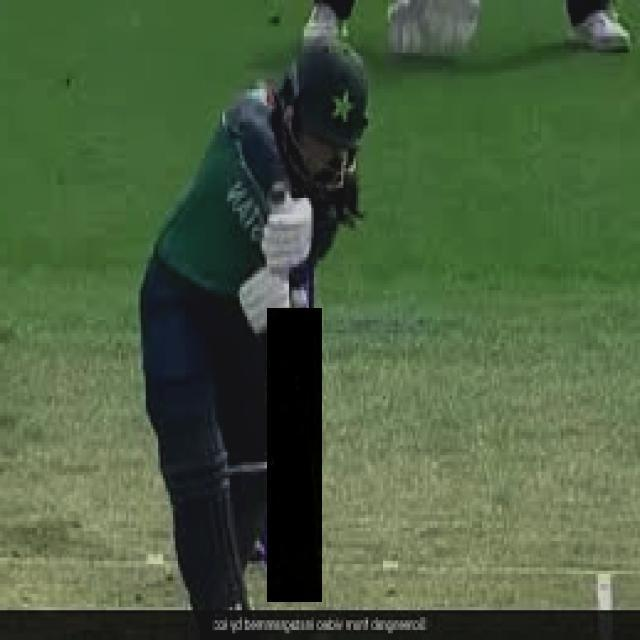bat: (262, 305, 326, 603)
toe: (264, 588, 327, 604)
